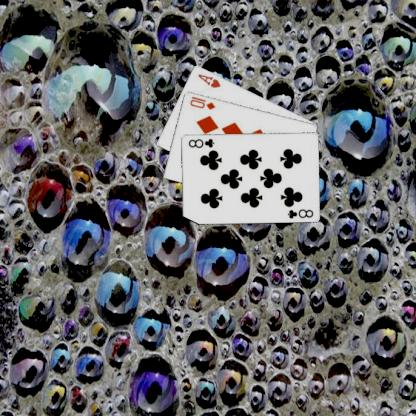10D: (189, 93, 218, 111)
8C: (286, 206, 316, 220), (187, 136, 217, 149)
AH: (197, 71, 224, 89)
